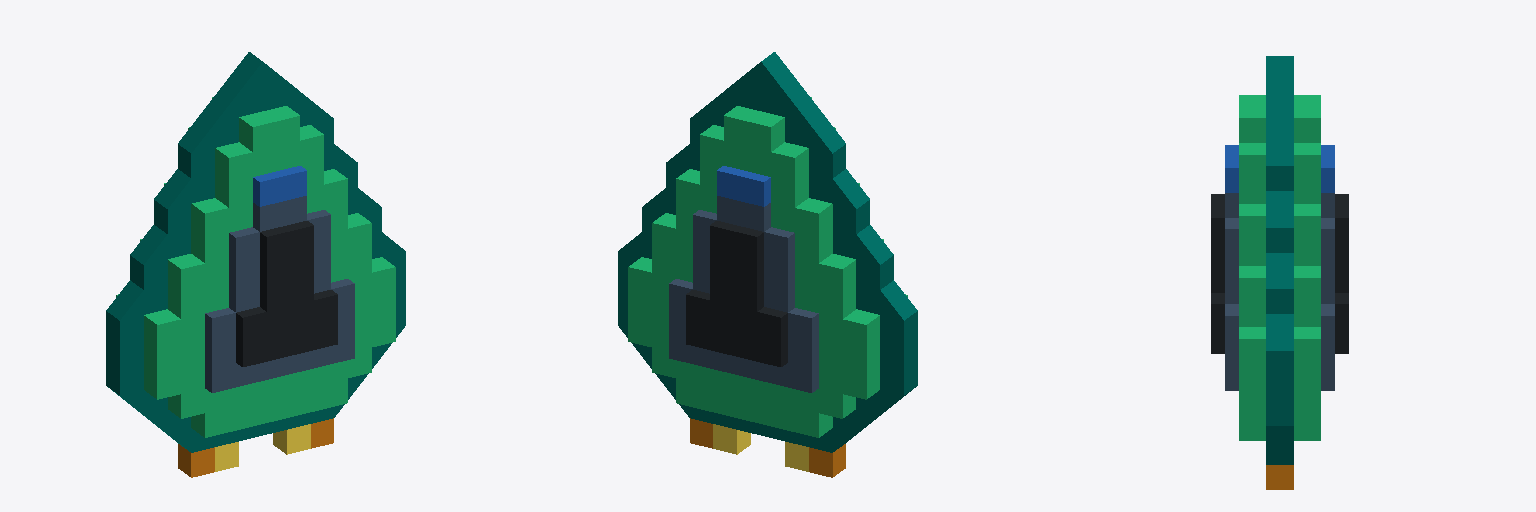
Rendered from Enemy2.obj.
3 views of the same model, side by side, from view 1: azimuth 30°, elevation 25°; view 2: azimuth 150°, elevation 25°; view 3: azimuth 270°, elevation 25° (orthographic).
Bounding box in the file's own units: 12 × 16 × 5.